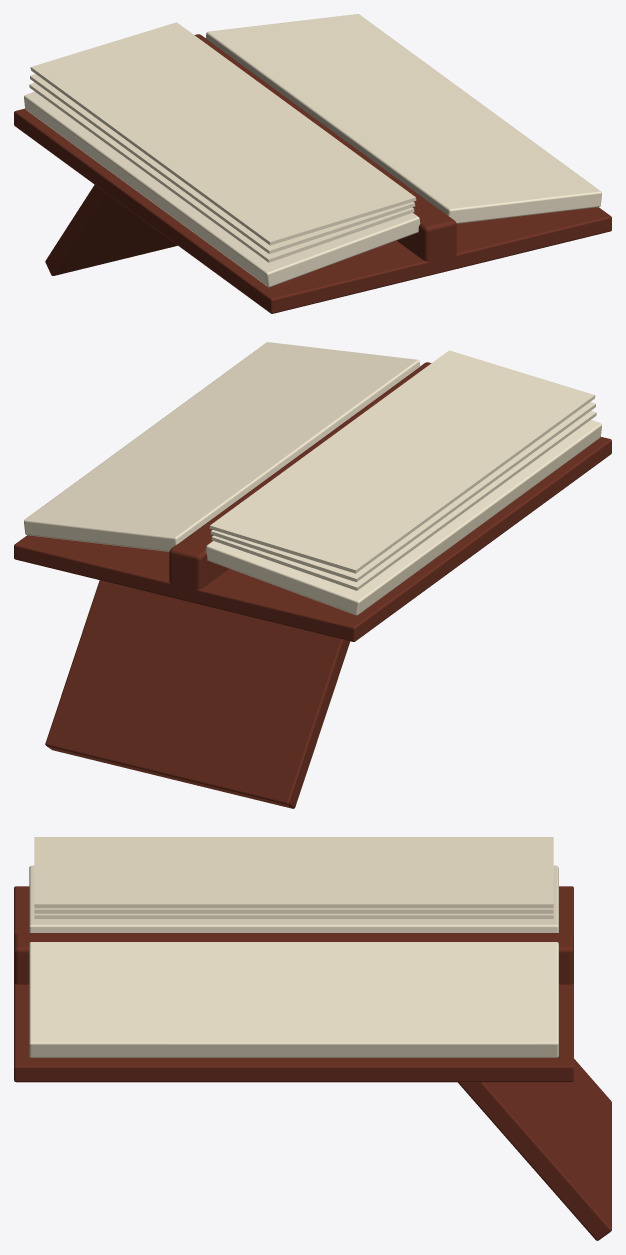
3 renders of one model, top to bottom at view 1: azimuth 30°, elevation 25°; view 2: azimuth 150°, elevation 25°; view 3: azimuth 270°, elevation 25°, orthographic. The views are drawn at different scales.
Size of the model in its own units: 0.42 by 0.2859 by 0.5872.
